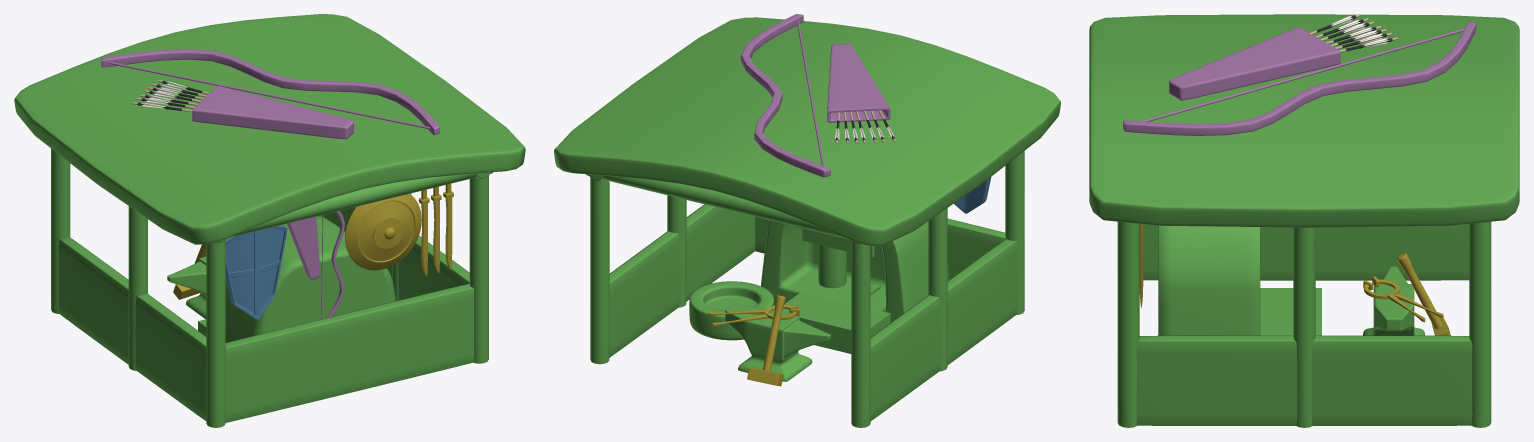
The model's file is ArrowTwr.fbx.
The picture shows the model from 3 angles, left to right: view 1: azimuth 30°, elevation 25°; view 2: azimuth 150°, elevation 25°; view 3: azimuth 270°, elevation 25°; orthographic projection. The views are drawn at different scales.
Visible parts, largest first — view 1: pCube42, pCube53, pCube52, pCylinder10, pCube51, pCylinder26, pCube45, pCylinder30, pCube46, pCylinder19, pCylinder35, pCube33 (+8 smaller); view 2: pCube42, pCube52, pCube33, pCylinder10, pCube29, pCylinder34, pCylinder33, pCube51, pCylinder13, pCube30, pCylinder38, pCube45 (+9 smaller); view 3: pCube42, pCube33, pCylinder10, pCube52, pCube51, pCube45, pCylinder19, pCylinder34, pCylinder32, pCube29, pCube30, pCylinder29 (+3 smaller).
Boxes of the visible parts, x1,y1,x2,y2 form: pCube42: (14, 14, 525, 244); pCube53: (225, 283, 473, 422); pCube52: (58, 237, 206, 420); pCylinder10: (225, 216, 395, 342); pCube51: (192, 85, 353, 139); pCylinder26: (345, 193, 421, 270); pCube45: (101, 49, 439, 135); pCylinder30: (206, 240, 225, 427); pCube46: (225, 224, 287, 319); pCylinder19: (469, 176, 488, 363); pCylinder35: (229, 172, 493, 237); pCube33: (322, 207, 469, 300); pCube42: (554, 17, 1060, 246); pCube52: (870, 239, 1016, 420); pCube33: (609, 204, 755, 357); pCylinder10: (761, 220, 949, 322); pCube29: (725, 305, 830, 381); pCylinder34: (590, 178, 609, 364); pCylinder33: (851, 241, 870, 427); pCube51: (827, 43, 890, 122); pCylinder13: (689, 281, 774, 340); pCube30: (782, 291, 890, 353); pCylinder38: (586, 174, 847, 239); pCube45: (740, 14, 830, 177); pCube42: (1089, 14, 1519, 227); pCube33: (1136, 335, 1472, 425); pCylinder10: (1158, 225, 1260, 335); pCube52: (1143, 224, 1469, 280); pCube51: (1169, 27, 1340, 100); pCube45: (1123, 21, 1476, 135); pCylinder19: (1117, 221, 1139, 427); pCylinder34: (1469, 221, 1491, 427); pCylinder32: (1293, 227, 1315, 427); pCube29: (1363, 266, 1424, 335); pCube30: (1260, 288, 1321, 335); pCylinder29: (1142, 28, 1463, 121).
Size of the model in its own units: 2.56 by 1.72 by 2.39.
